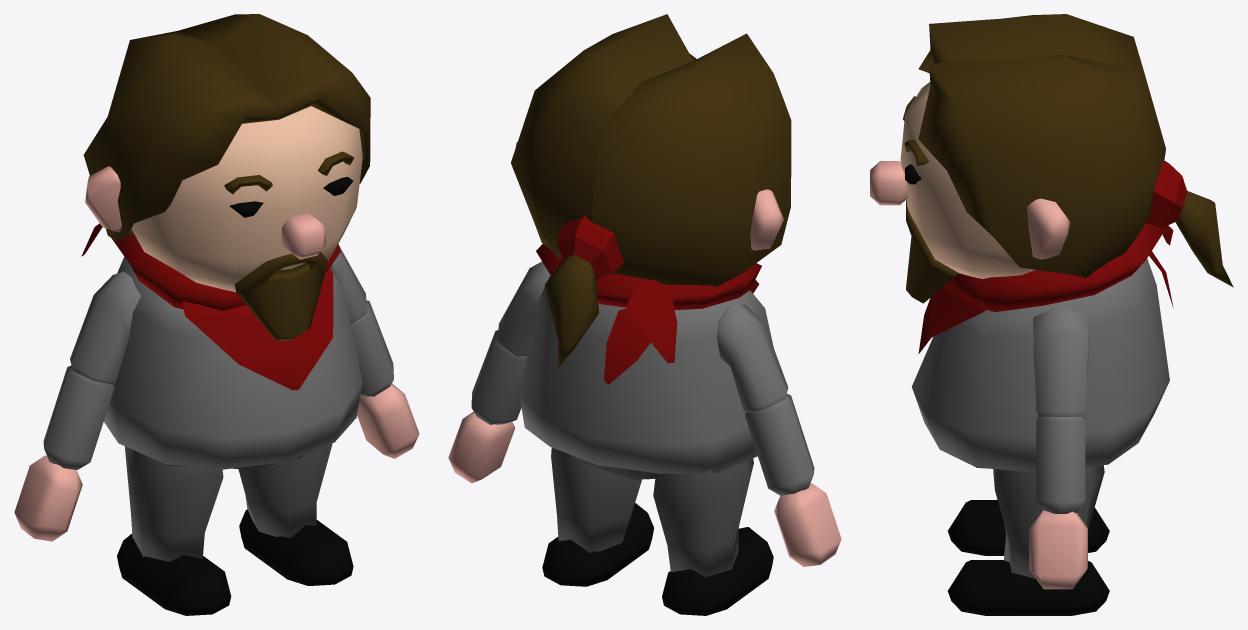
Rendered from CHAR_01_v5.fbx.
3 views of the same model, side by side, from view 1: azimuth 30°, elevation 25°; view 2: azimuth 150°, elevation 25°; view 3: azimuth 270°, elevation 25° (orthographic). The views are drawn at different scales.
Parts seen in each view (by area): view 1: m_cheveux01, m_tronc, m_tete, m_jambe_D, m_echarpe2, m_jambe_G, m_barbe, m_pied_D, m_pied_G, m_bras_D, m_avantbras_D, m_main_D (+6 smaller); view 2: m_cheveux01, m_tronc, m_jambe_D, m_jambe_G, m_bras_D, m_pied_D, m_avantbras_D, m_pied_G, m_main_D, m_cheveux01b, m_echarpe1, m_avantbras_G (+7 smaller); view 3: m_cheveux01, m_tronc, m_tete, m_pied_G, m_echarpe1, m_bras_G, m_avantbras_G, m_jambe_G, m_main_G, m_pied_D, m_cheveux01b, m_barbe (+4 smaller).
Part boxes in pixels (<box>): m_cheveux01: <box>83,14,370,242</box>; m_tronc: <box>104,257,362,469</box>; m_tete: <box>131,106,362,291</box>; m_jambe_D: <box>124,446,223,561</box>; m_echarpe2: <box>182,267,333,390</box>; m_jambe_G: <box>238,443,332,537</box>; m_barbe: <box>234,252,328,340</box>; m_pied_D: <box>117,533,231,615</box>; m_pied_G: <box>239,509,353,585</box>; m_bras_D: <box>70,271,140,384</box>; m_avantbras_D: <box>43,365,114,469</box>; m_main_D: <box>14,455,82,541</box>; m_cheveux01: <box>511,14,791,286</box>; m_tronc: <box>519,275,773,473</box>; m_jambe_D: <box>653,458,753,577</box>; m_jambe_G: <box>551,447,641,552</box>; m_bras_D: <box>717,302,788,412</box>; m_pied_D: <box>662,527,773,615</box>; m_avantbras_D: <box>745,394,814,495</box>; m_pied_G: <box>542,503,653,586</box>; m_main_D: <box>774,483,841,566</box>; m_cheveux01b: <box>544,254,598,368</box>; m_echarpe1: <box>536,244,761,309</box>; m_avantbras_G: <box>471,330,527,424</box>; m_cheveux01: <box>918,14,1165,278</box>; m_tronc: <box>912,258,1169,472</box>; m_tete: <box>900,82,1035,278</box>; m_pied_G: <box>948,560,1109,615</box>; m_echarpe1: <box>953,223,1162,311</box>; m_bras_G: <box>1033,305,1088,416</box>; m_avantbras_G: <box>1036,416,1085,513</box>; m_jambe_G: <box>993,465,1104,578</box>; m_main_G: <box>1029,510,1087,589</box>; m_pied_D: <box>948,500,1109,555</box>; m_cheveux01b: <box>1175,191,1233,287</box>; m_barbe: <box>906,200,958,303</box>.
Bounding box in the file's own units: 104 × 137 × 84.33.
